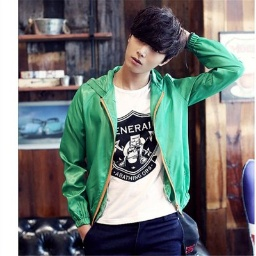face: (126, 6, 184, 71)
